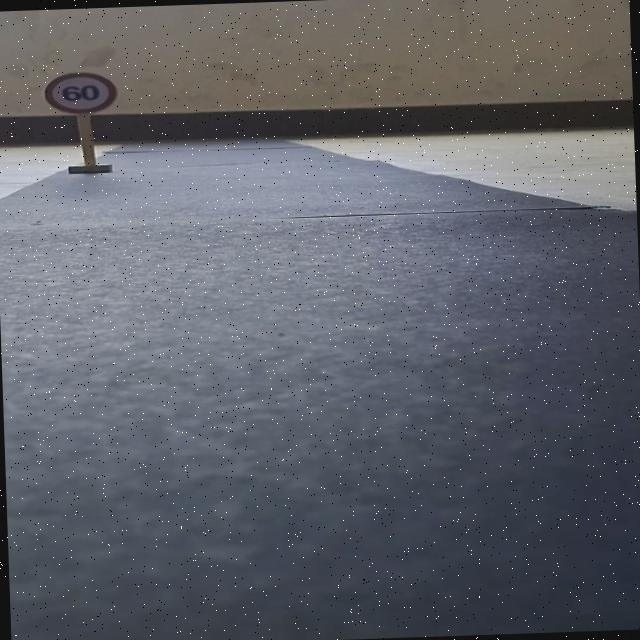Speed60: (42, 66, 118, 114)
